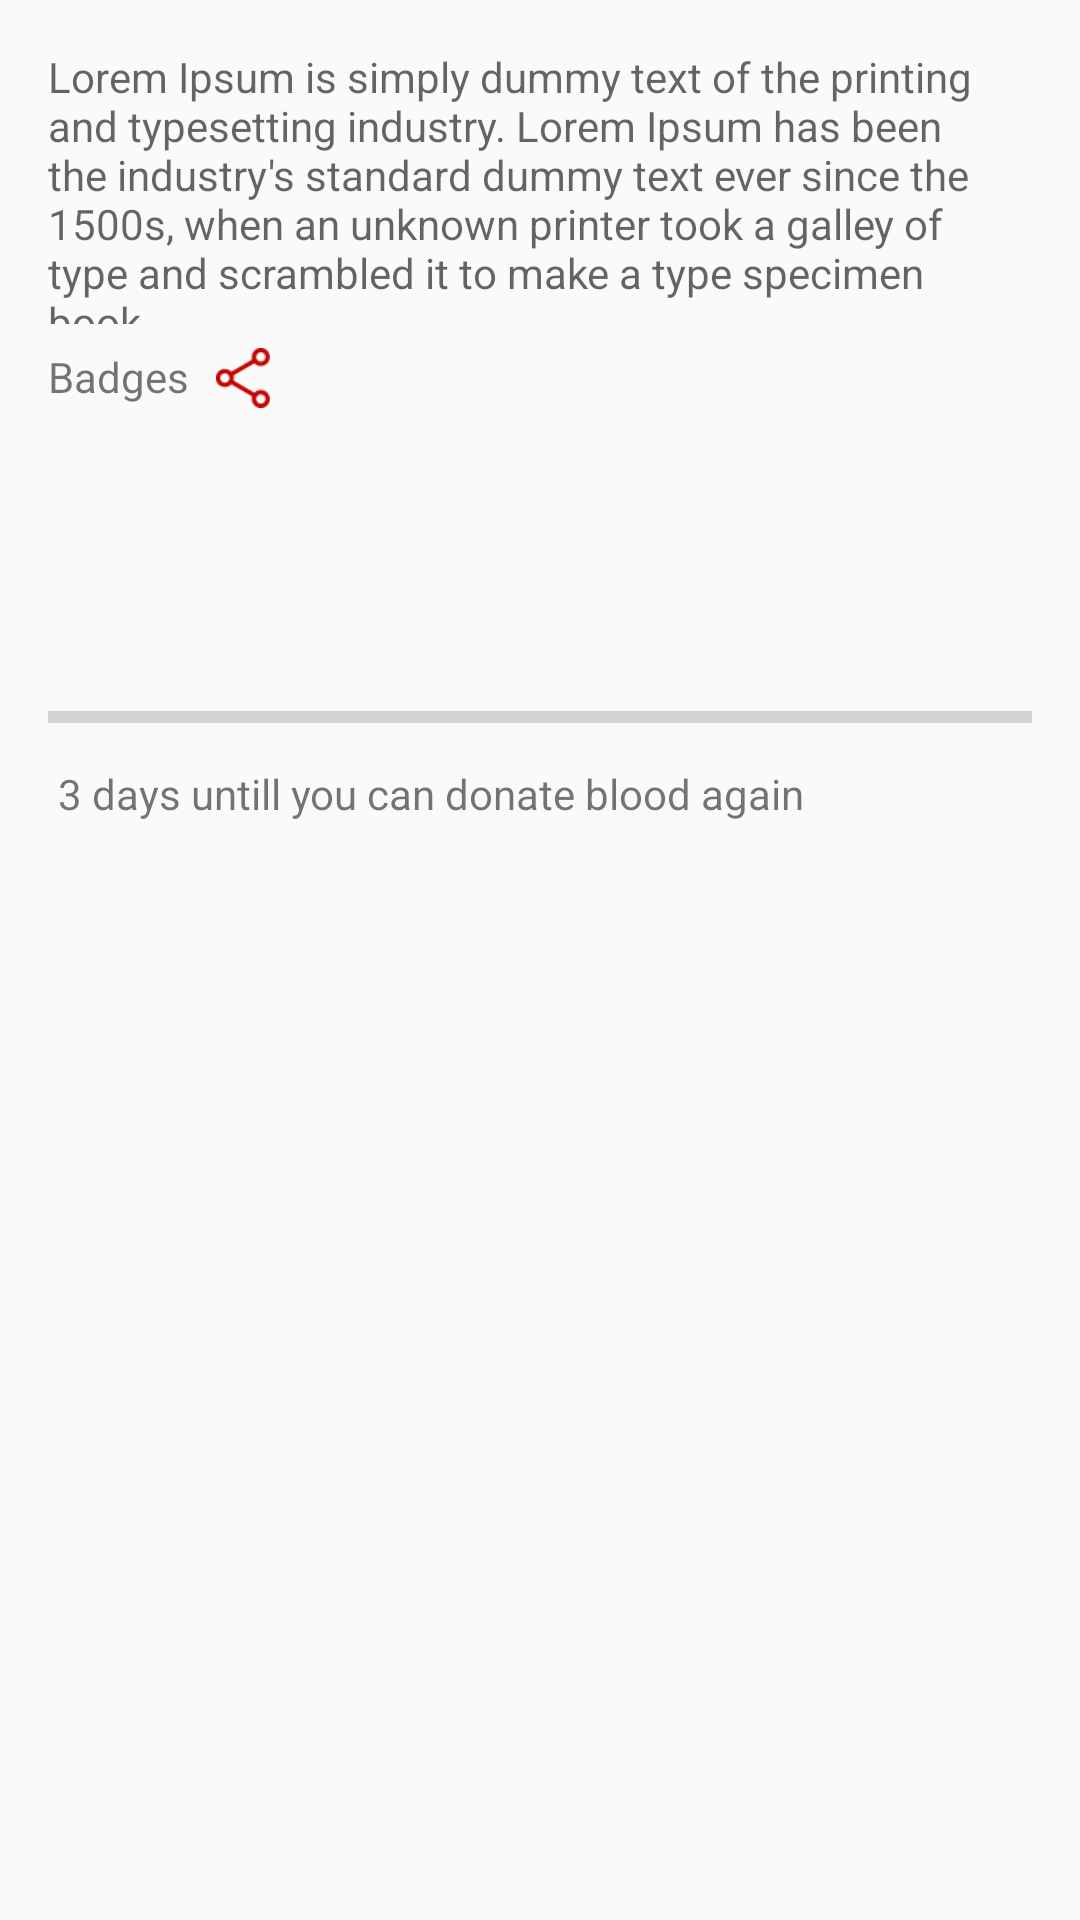

Point at icon controls on the screen. Image size 1080*1920, points as (x=x, y=y).
share: (x=243, y=378)
